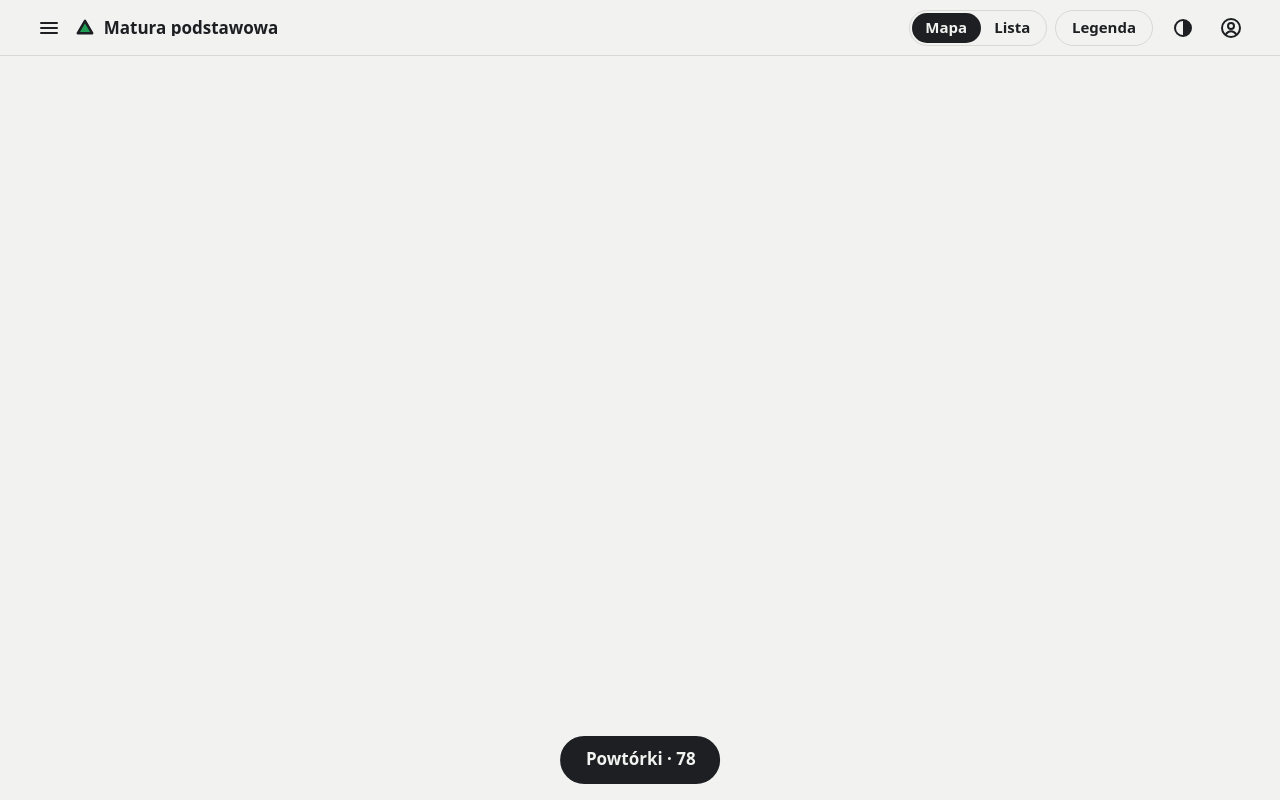
Scenario: ExamView on a phone › opens the legend above the map
Click the button "Legenda".
click(1104, 28)  # box [1055,10,1153,46]
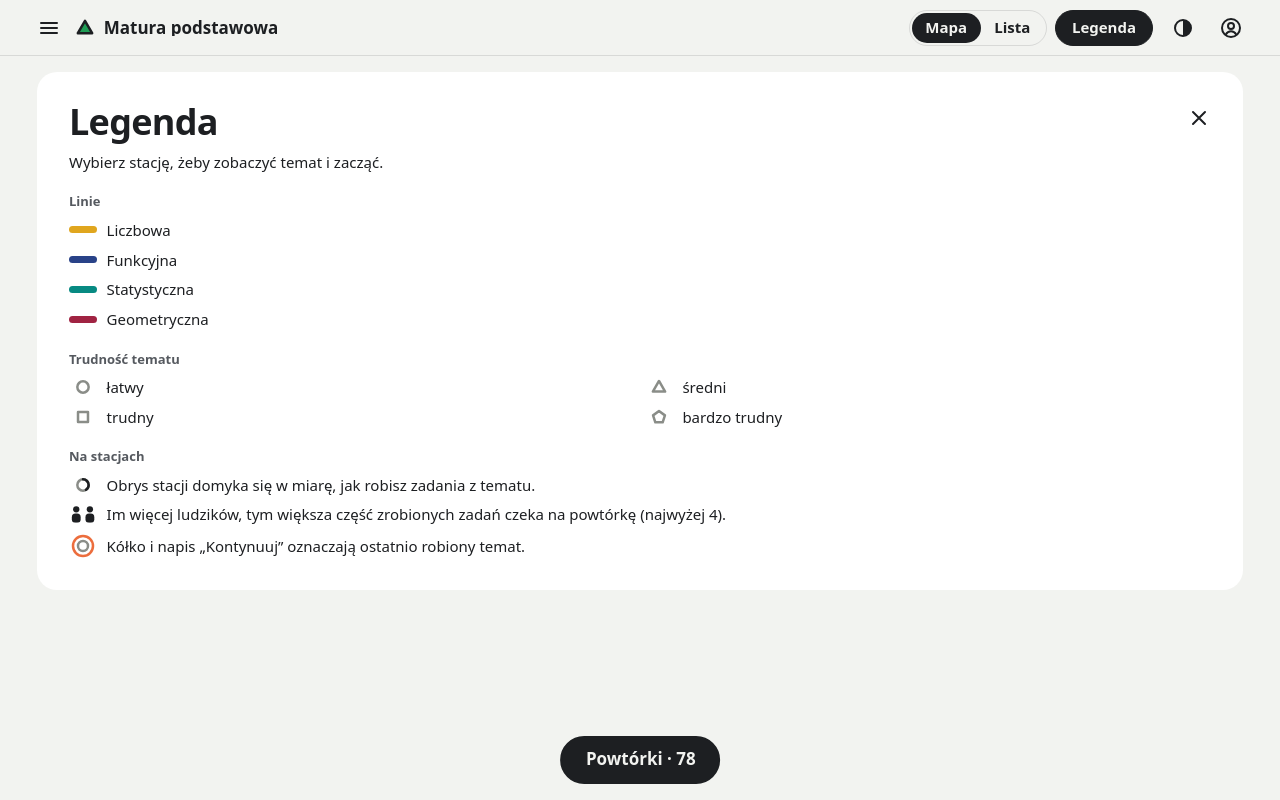
Check: the button "Legenda" is expanded, box [1055,10,1153,46]
Check: the heading "Legenda" is shown, box [69,104,218,140]
